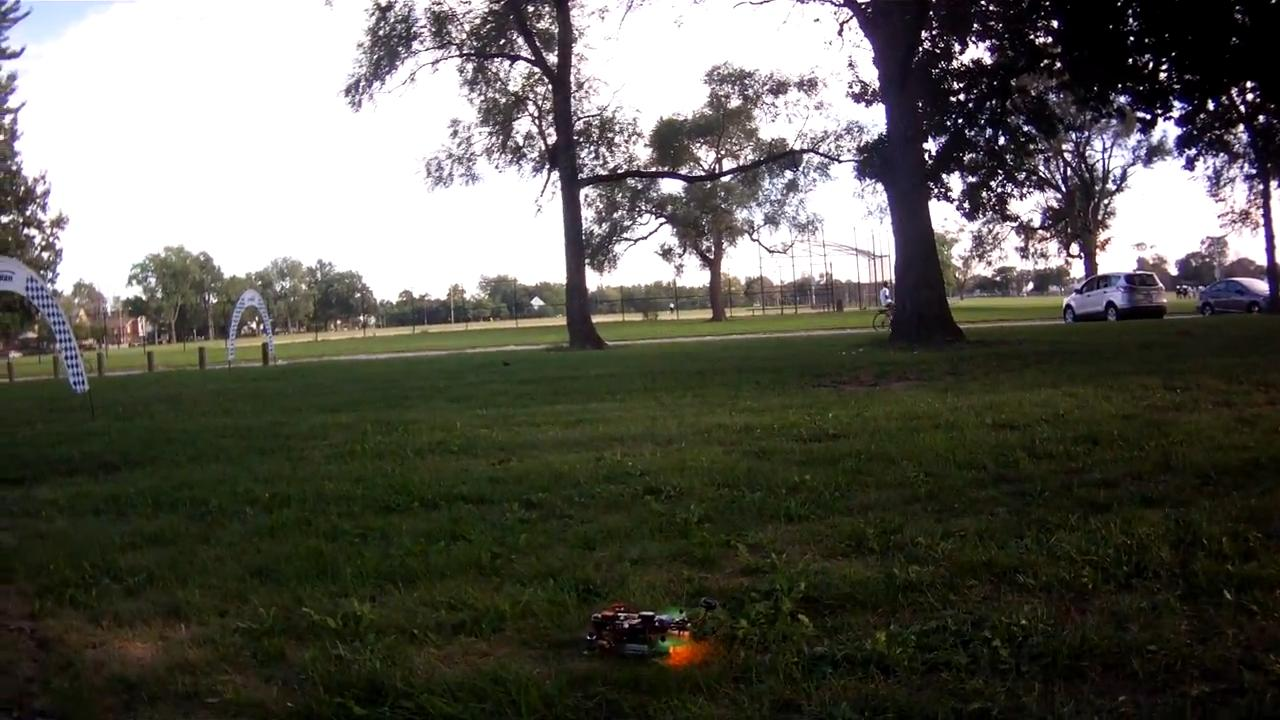gate: (223, 287, 273, 367)
